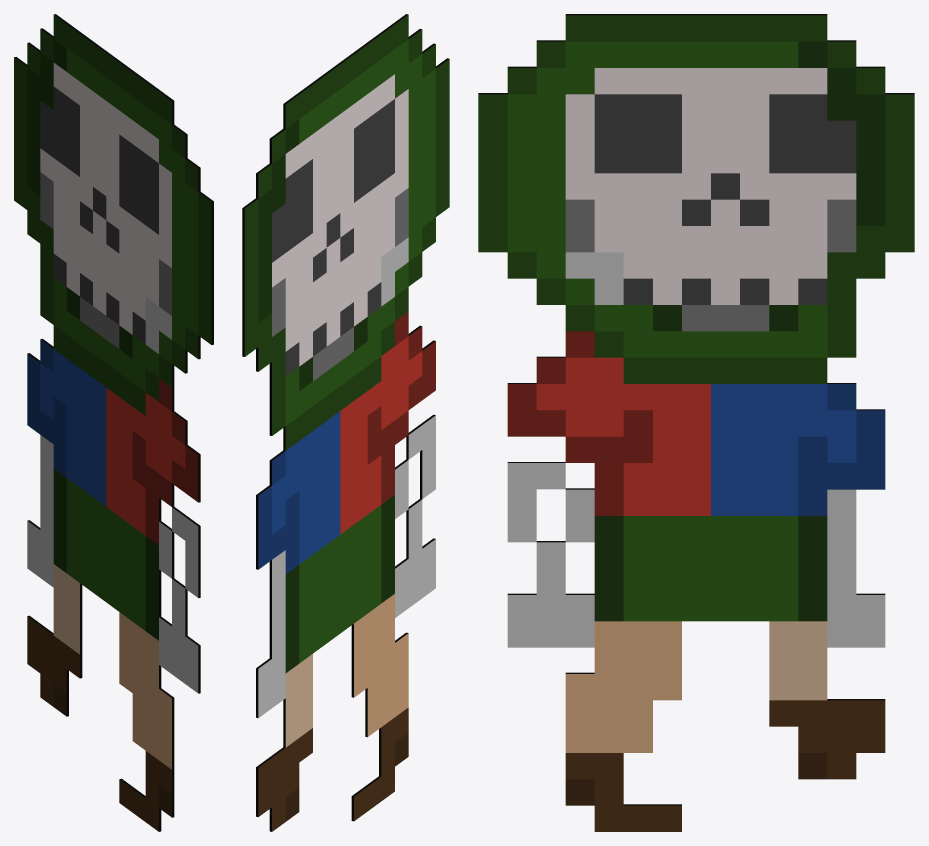
Rendered from Enemy2WC5.fbx.
3 renders of one model, left to right at view 1: azimuth 30°, elevation 25°; view 2: azimuth 150°, elevation 25°; view 3: azimuth 270°, elevation 25°, orthographic. The views are drawn at different scales.
Visible parts, largest first — view 1: Cube; view 2: Cube; view 3: Cube.
Boxes of the visible parts, x1,y1,x2,y2 form: Cube: (14, 14, 213, 831); Cube: (242, 14, 449, 831); Cube: (478, 14, 914, 831).
Size of the model in its own units: 20 by 6200 by 3000.
